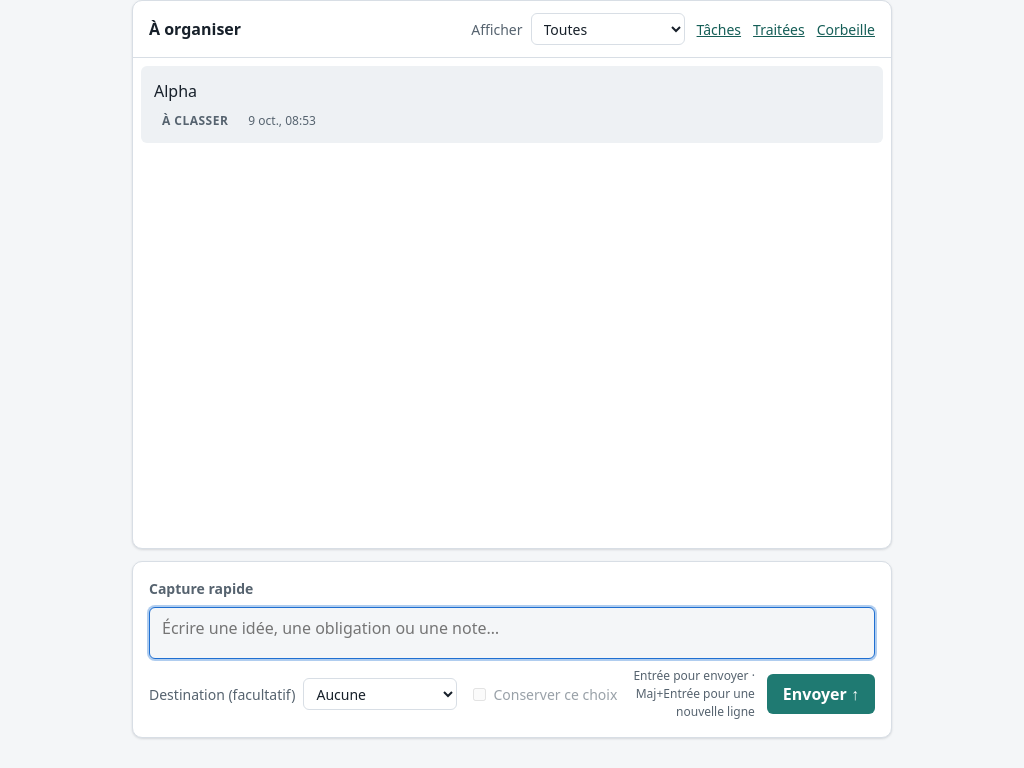
Test: Disparition d'une capture mise à la corbeille (001-C) › échec de la suppression : ni animation ni notification trompeuse
Click the button "Alpha À classer 9 oct., 08:53" at (176,91), box [142,67,882,142]
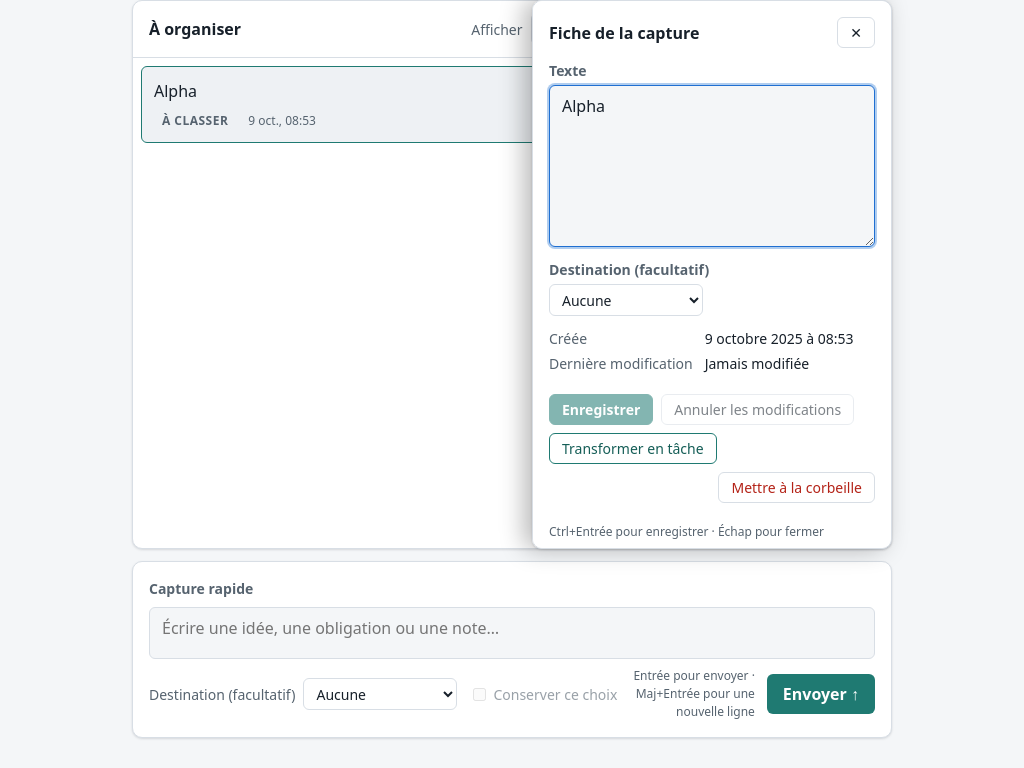
Click the button "Mettre à la corbeille" at (797,488), box [718,472,875,503]
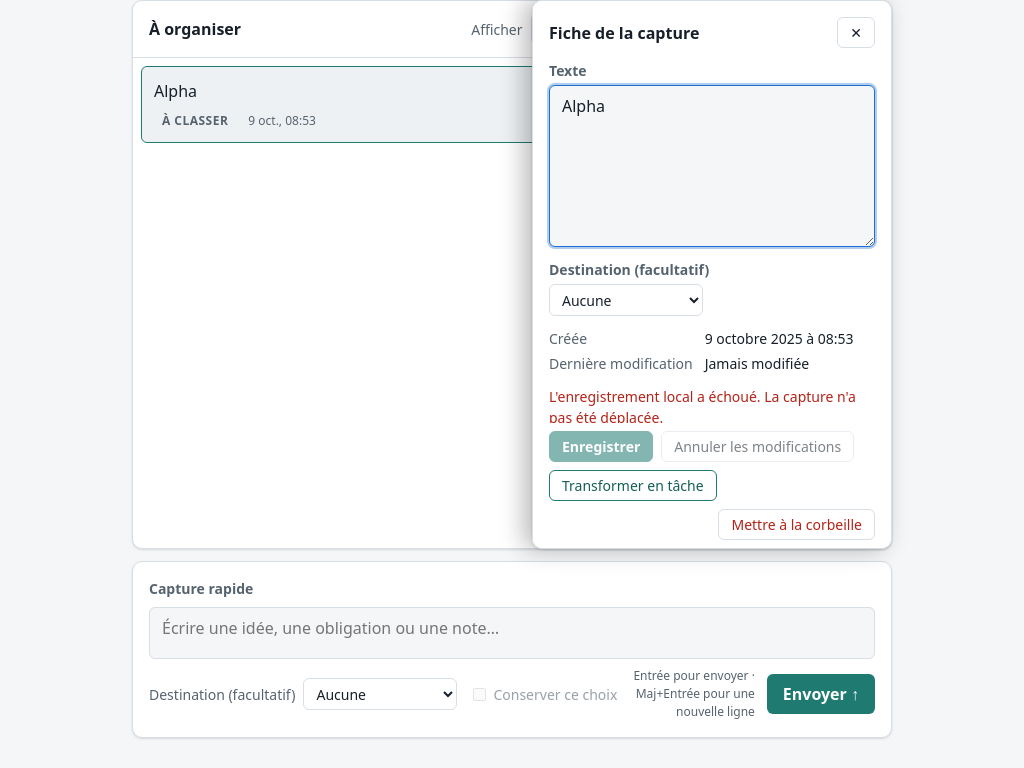
Now the text "L'enregistrement local a échoué. La capture n'a pas été déplacée." is shown, box [549,386,875,428]
